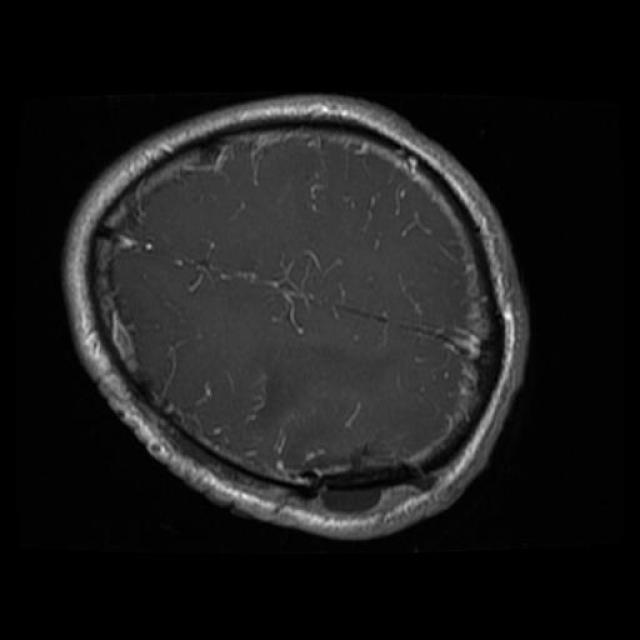Glioma: (295, 454, 426, 511)
